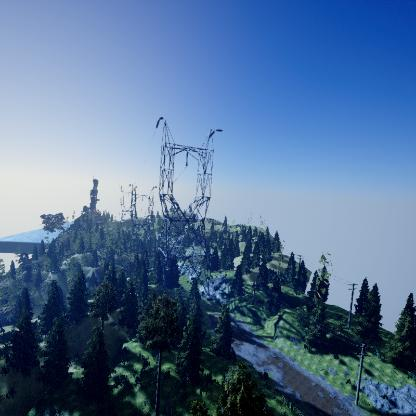tower: (153, 115, 225, 304)
